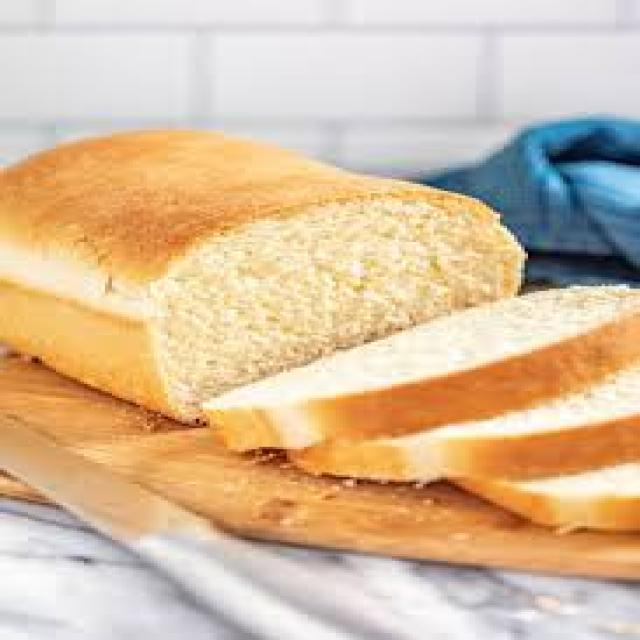food_waste: (0, 130, 637, 531)
